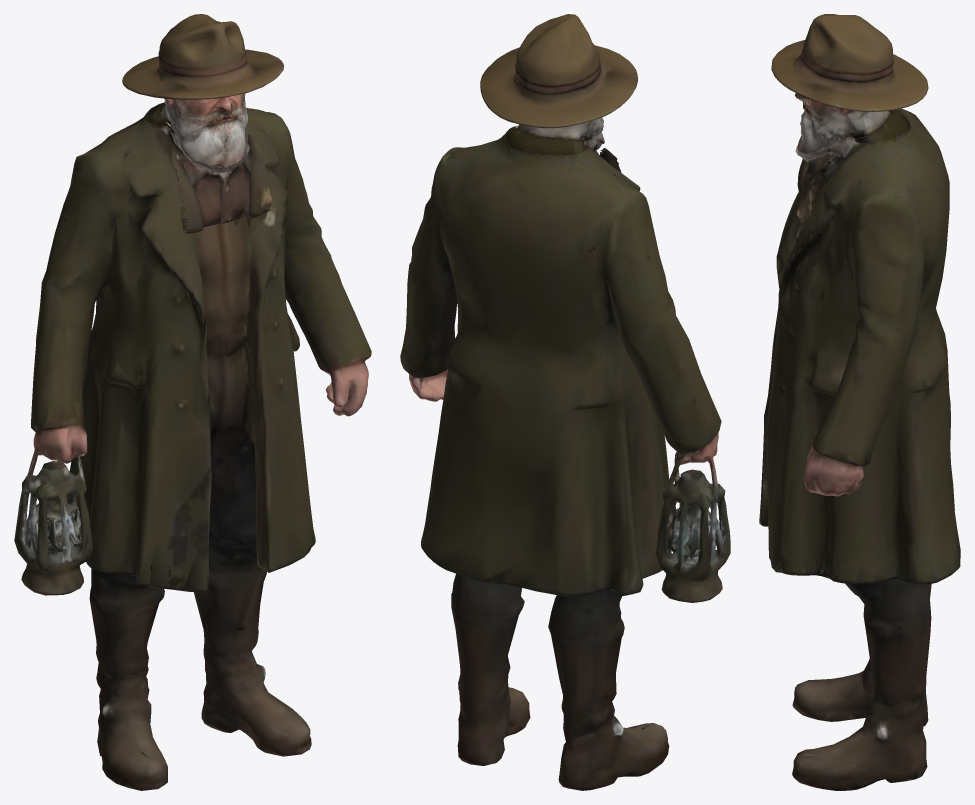
File: ranger.glb
3 views of the same model, side by side, from view 1: azimuth 30°, elevation 25°; view 2: azimuth 150°, elevation 25°; view 3: azimuth 270°, elevation 25° (orthographic). The views are drawn at different scales.
Parts seen in each view (by area): view 1: ranger.raw; view 2: ranger.raw; view 3: ranger.raw.
Part boxes in pixels (x1,y1,x2,y2): ranger.raw: [14, 14, 371, 790]; ranger.raw: [400, 14, 730, 790]; ranger.raw: [759, 14, 960, 790].
Bounding box in the file's own units: 0.8415 × 1.8 × 0.45.
1 material, 1 textured.
